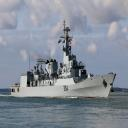Fragata: (10, 18, 118, 101)
